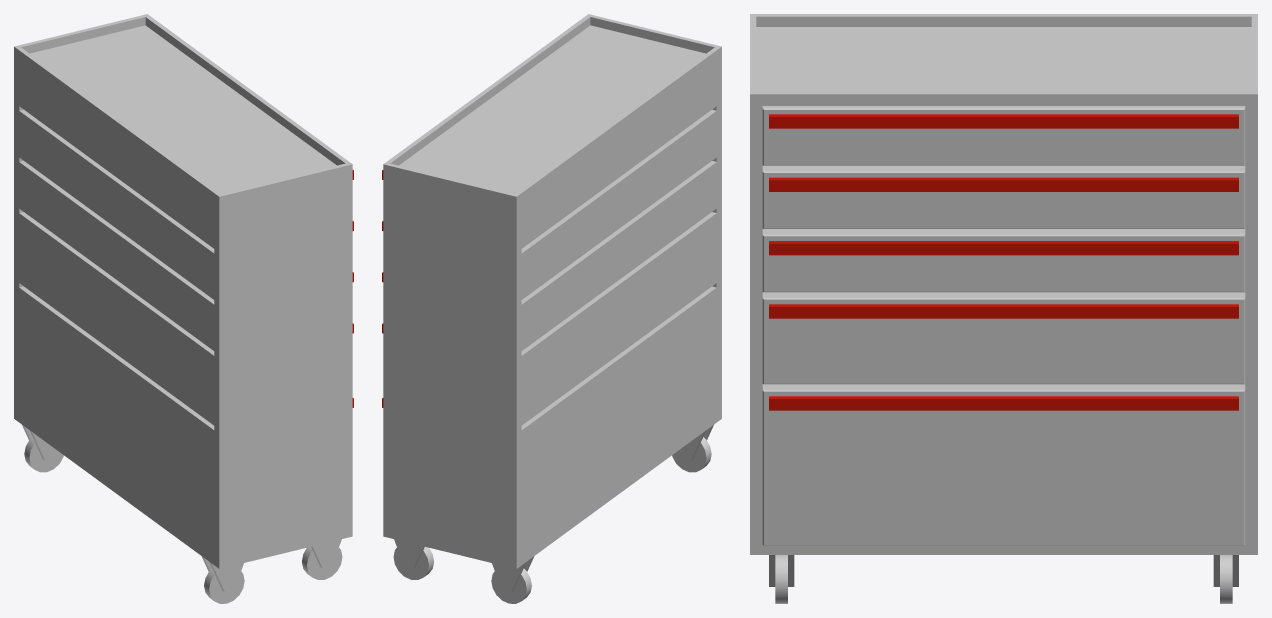
Rendered from SM_Rolling_Drawer.fbx.
The picture shows the model from 3 angles, left to right: view 1: azimuth 30°, elevation 25°; view 2: azimuth 150°, elevation 25°; view 3: azimuth 270°, elevation 25°; orthographic projection. The views are drawn at different scales.
Visible parts, largest first — view 1: Rolling_Drawer; view 2: Rolling_Drawer; view 3: Rolling_Drawer.
Boxes of the visible parts, left/top/right/bottom form: Rolling_Drawer: left=14, top=14, right=353, bottom=603; Rolling_Drawer: left=382, top=14, right=721, bottom=603; Rolling_Drawer: left=750, top=14, right=1257, bottom=603.
Bounding box in the file's own units: 32 × 90 × 80.
